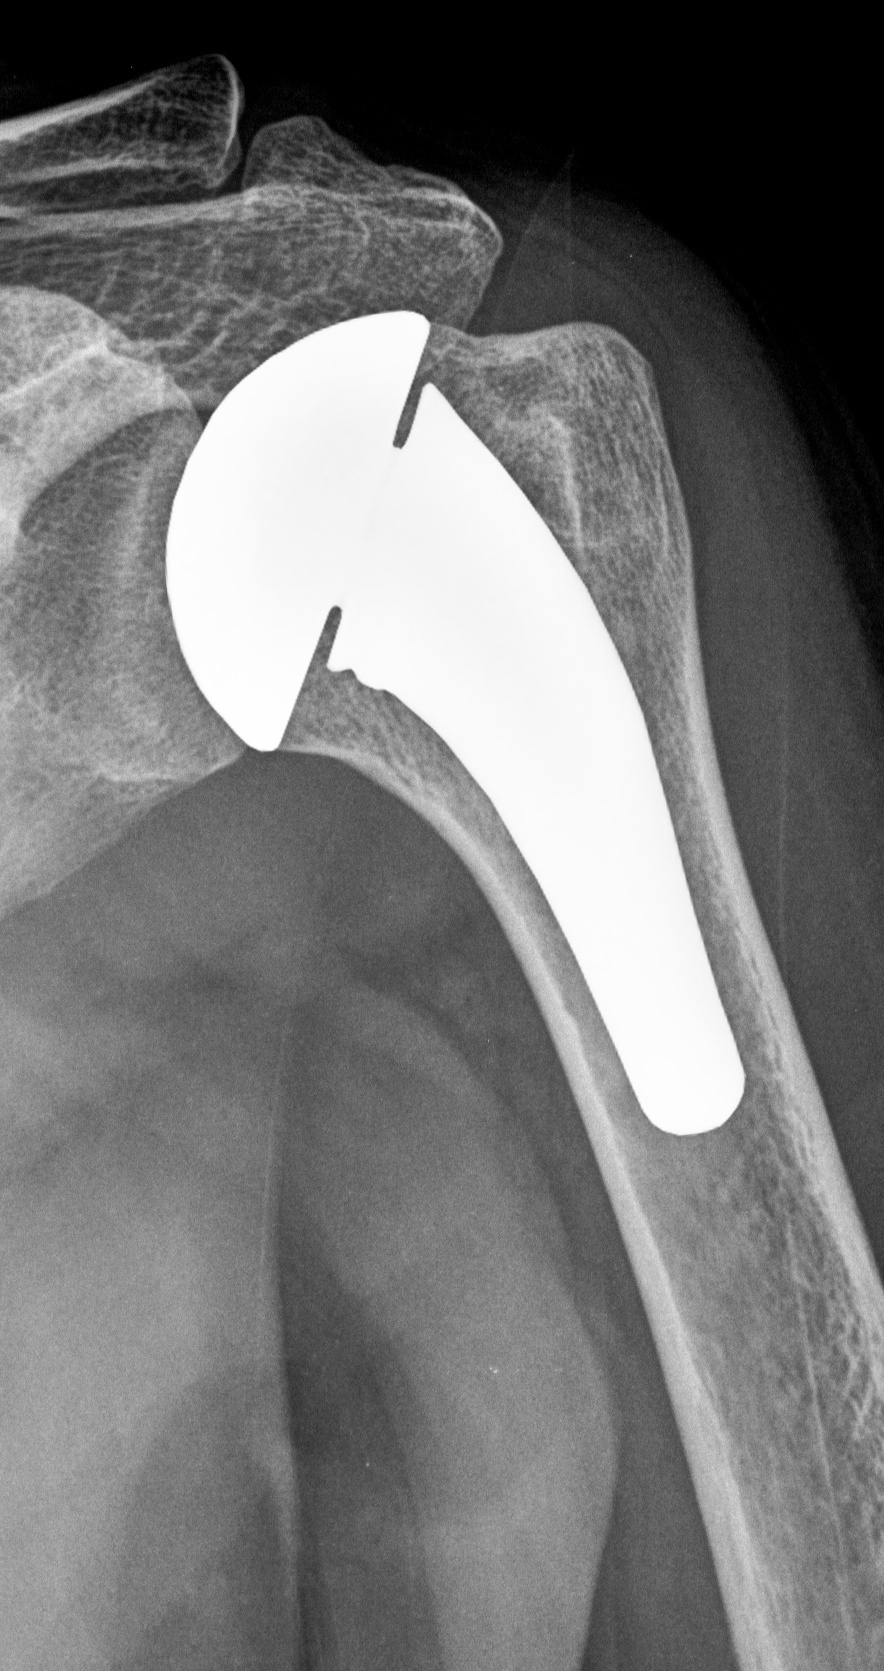Shoulder - AequalisAscendFlex - Tornier: (128, 273, 435, 777)
